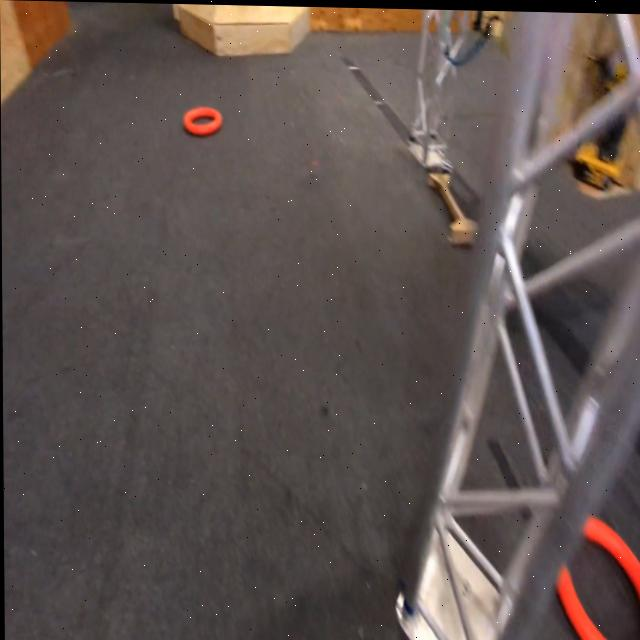note: (551, 514, 640, 640), (182, 104, 223, 136)
